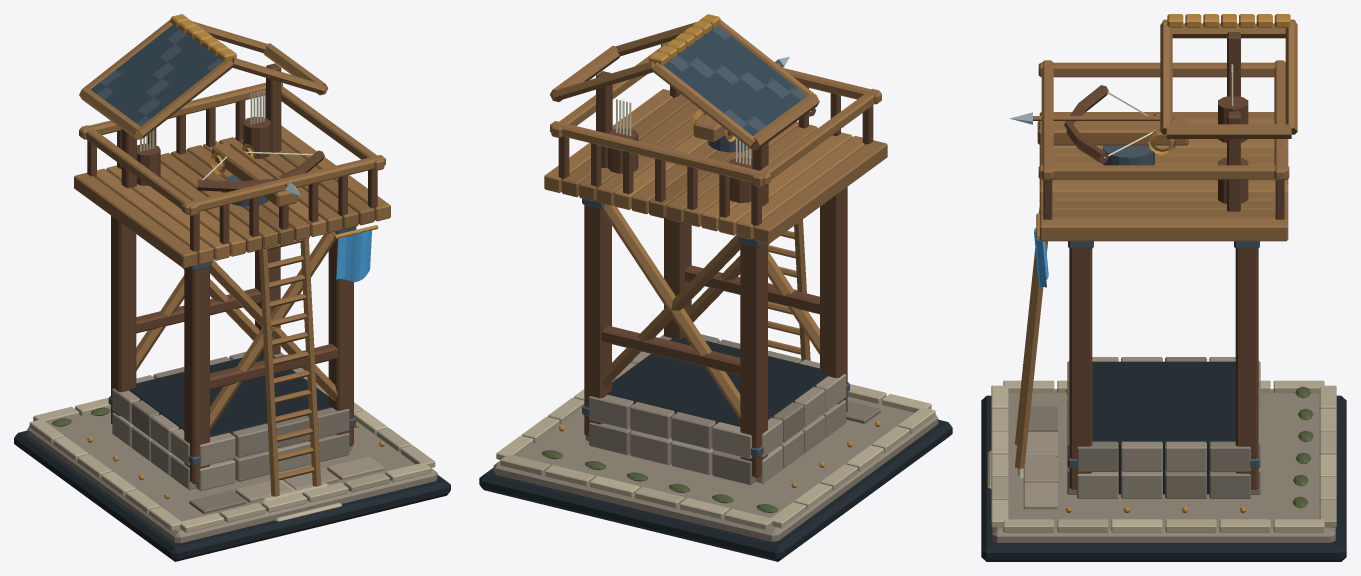
File: archer__francoatiradora__L10.glb
3 views of the same model, side by side, from view 1: azimuth 30°, elevation 25°; view 2: azimuth 150°, elevation 25°; view 3: azimuth 270°, elevation 25° (orthographic). The views are drawn at different scales.
Parts seen in each view (by area): view 1: structure, weapon, banners; view 2: structure, weapon; view 3: structure, weapon, banners.
Boxes of the visible parts, x1,y1,x2,y2 form: structure: (14, 14, 450, 561); weapon: (197, 141, 324, 207); banners: (334, 225, 378, 282); structure: (479, 14, 952, 561); weapon: (692, 56, 816, 152); structure: (981, 14, 1346, 561); weapon: (1009, 85, 1188, 165); banners: (1034, 213, 1048, 287).
Size of the model in its own units: 0.803 by 1.14 by 0.803.
